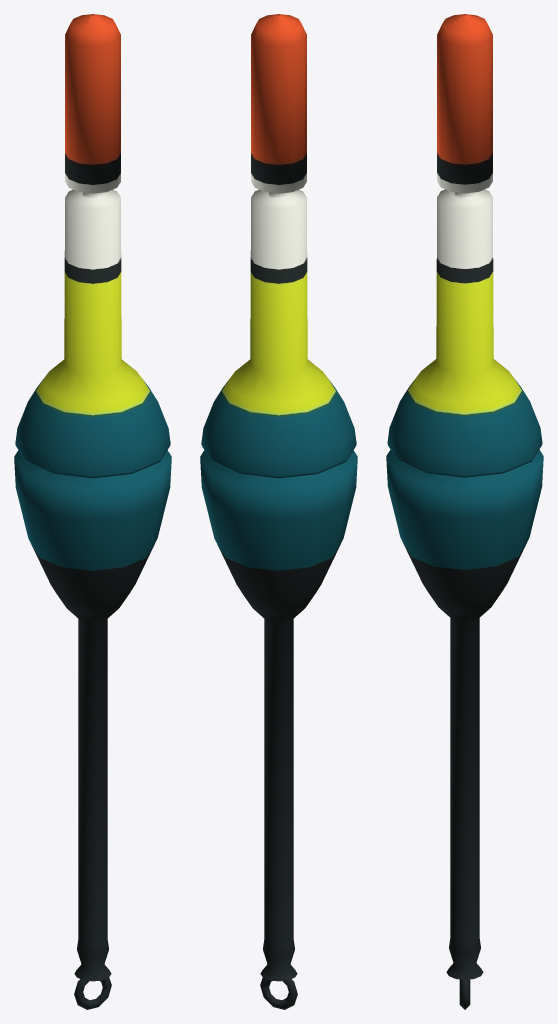
The picture shows the model from 3 angles, left to right: view 1: azimuth 30°, elevation 25°; view 2: azimuth 150°, elevation 25°; view 3: azimuth 270°, elevation 25°; orthographic projection.
Parts seen in each view (by area): view 1: F02_Float; view 2: F02_Float; view 3: F02_Float.
Part boxes in pixels (x1=…): F02_Float: x1=14, y1=14, x2=171, y2=1009; F02_Float: x1=200, y1=14, x2=357, y2=1009; F02_Float: x1=386, y1=14, x2=543, y2=1009.
Bounding box in the file's own units: 0.0201 × 0.14 × 0.0201.
Materials: 1 (1 with a texture image).
